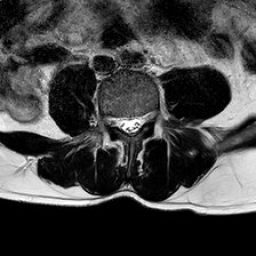CCS_normal: (126, 107, 134, 144)
LFS_normal: (142, 105, 152, 132)
LLS_normal: (134, 106, 142, 137)
RFS_normal: (109, 106, 117, 136)
RLS_normal: (117, 107, 126, 138)
